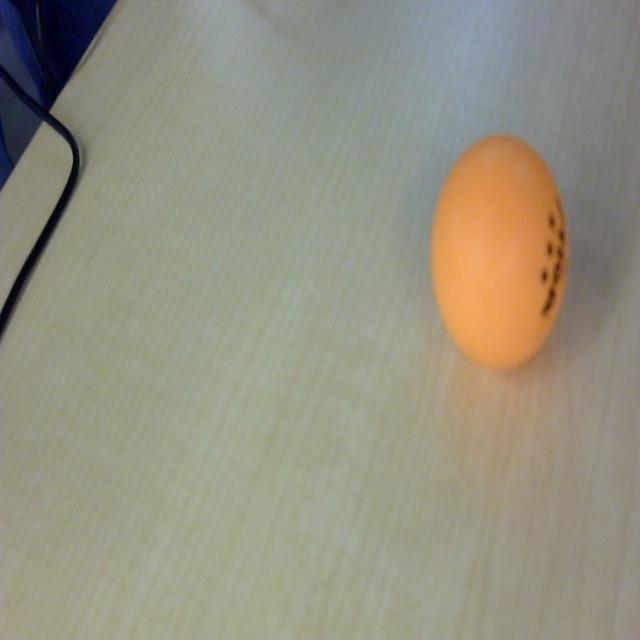ball: (430, 130, 571, 376)
